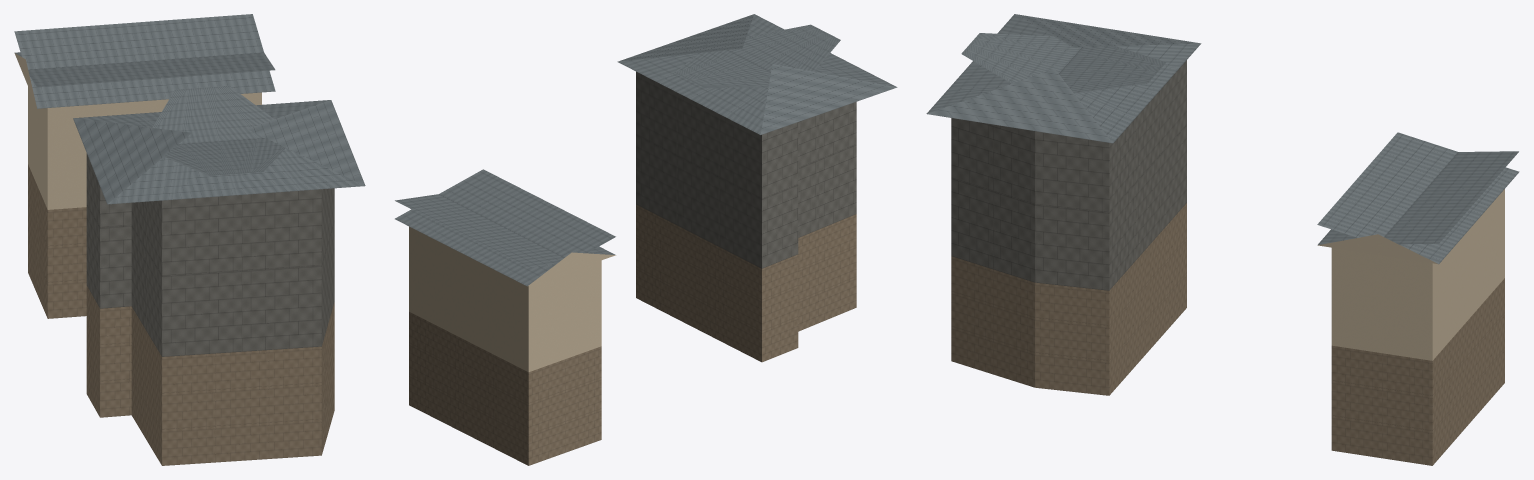
File: bld_c31_-40_465.gltf
3 renders of one model, left to right at view 1: azimuth 30°, elevation 25°; view 2: azimuth 150°, elevation 25°; view 3: azimuth 270°, elevation 25°, orthographic. The views are drawn at different scales.
Visible parts, largest first — view 1: bld_c31_-40_465; view 2: bld_c31_-40_465; view 3: bld_c31_-40_465.
Boxes of the visible parts, x1=… form: bld_c31_-40_465: x1=14, y1=14, x2=365, y2=465; bld_c31_-40_465: x1=395, y1=14, x2=897, y2=465; bld_c31_-40_465: x1=926, y1=14, x2=1519, y2=465.
Size of the model in its own units: 17.9 by 14.9 by 26.09.
5 materials, 5 textured.
